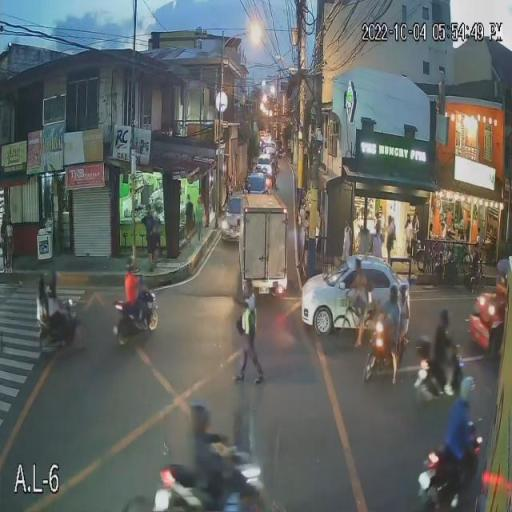helmet: (458, 376, 474, 397), (188, 402, 208, 418), (399, 285, 413, 298), (387, 285, 397, 301), (127, 262, 140, 274)
motorcycle: (147, 441, 267, 512), (416, 421, 485, 512), (412, 338, 463, 406), (113, 284, 160, 346), (362, 314, 402, 384), (36, 296, 82, 351)
rider: (186, 402, 240, 501), (438, 377, 478, 484), (371, 286, 406, 362), (430, 308, 460, 389), (122, 263, 149, 330), (37, 274, 68, 330)
